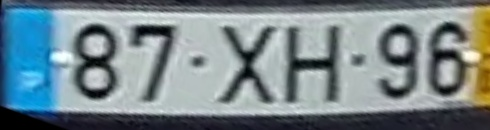6: (425, 18, 470, 100)
7: (128, 21, 181, 105)
8: (69, 21, 119, 103)
9: (373, 20, 423, 104)
H: (281, 22, 344, 107)
X: (215, 24, 278, 110)
